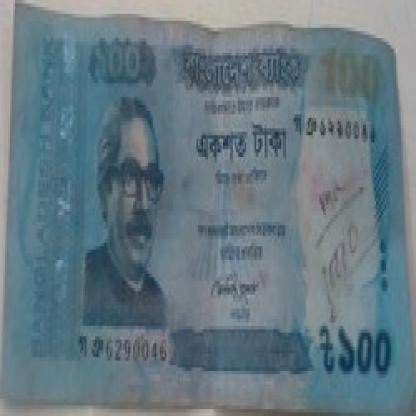one hundred taka: (313, 35, 381, 104), (88, 28, 158, 90), (338, 312, 394, 385)
